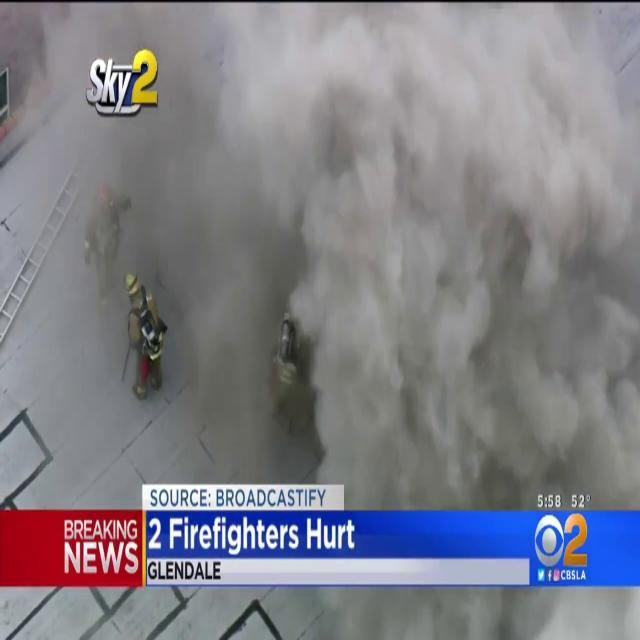Smoke: (6, 4, 640, 492)
